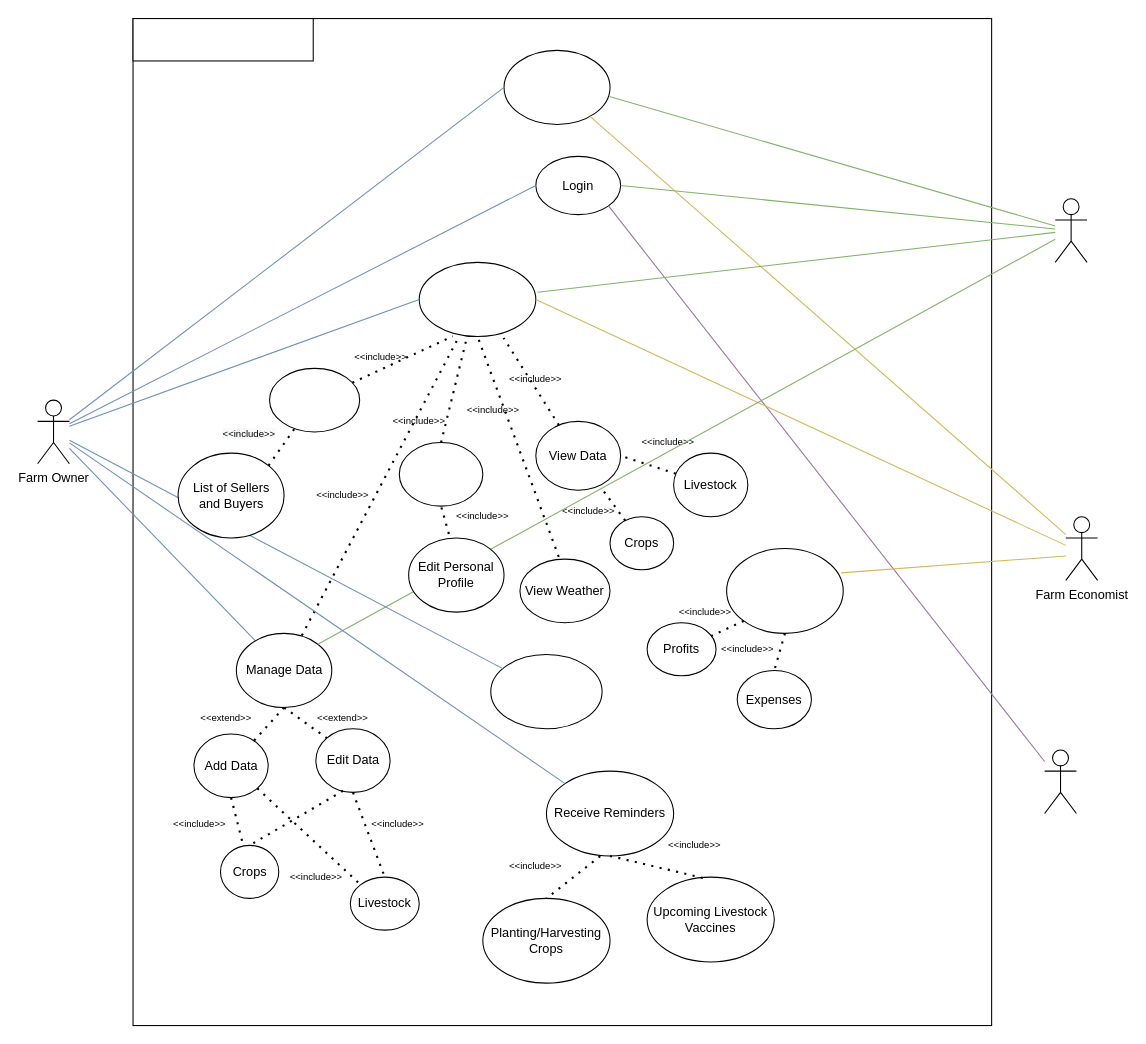
Some shapes in this 1146 by 1044 pixel diagram are drawn without their labels. The centre of each missing label's shape, as x and y in pixels:
"Create Account" belongs at point 556,87.
"Farm Manager" belongs at point 1070,230.
"Farming Management System" belongs at point 222,39.
"Filtered Search" belongs at point 546,691.
"Manage Inventory" belongs at point 784,590.
"System Maintainer" belongs at point 1060,781.
"View Dashboard" belongs at point 477,299.
"View Market" belongs at point 314,399.
"View Profile" belongs at point 440,473.
